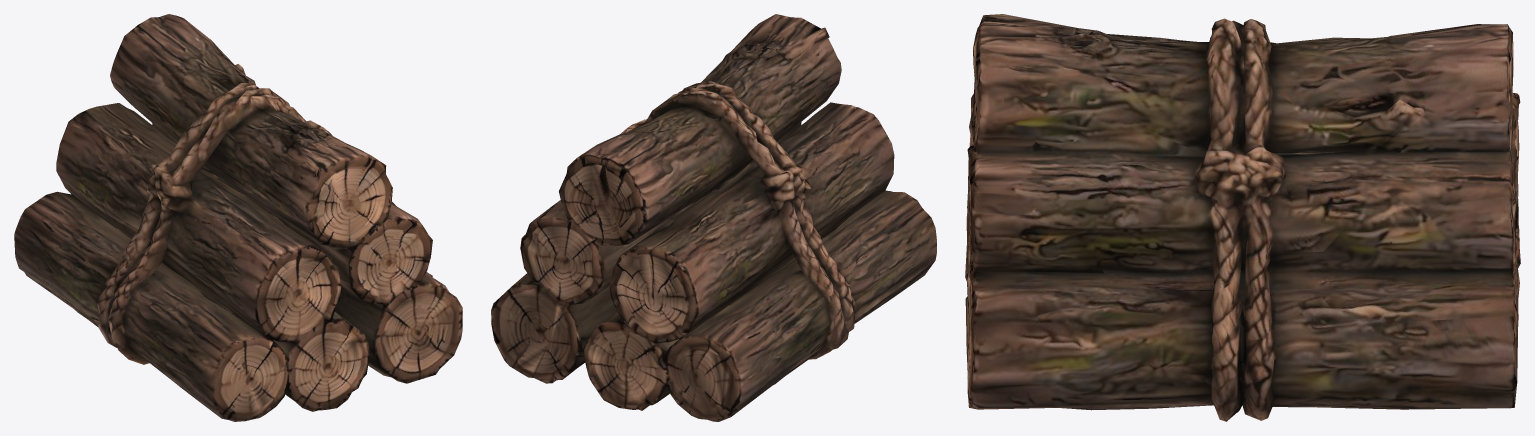
File: res_wood.glb
3 renders of one model, left to right at view 1: azimuth 30°, elevation 25°; view 2: azimuth 150°, elevation 25°; view 3: azimuth 270°, elevation 25°, orthographic. The views are drawn at different scales.
Visible parts, largest first — view 1: tripo_node_57d30ed9-ddcb-46e1-bd4d-ded3f6a2d8ea; view 2: tripo_node_57d30ed9-ddcb-46e1-bd4d-ded3f6a2d8ea; view 3: tripo_node_57d30ed9-ddcb-46e1-bd4d-ded3f6a2d8ea.
Part boxes in pixels (left/top/right/bottom): tripo_node_57d30ed9-ddcb-46e1-bd4d-ded3f6a2d8ea: left=14, top=14, right=462, bottom=421; tripo_node_57d30ed9-ddcb-46e1-bd4d-ded3f6a2d8ea: left=491, top=14, right=936, bottom=421; tripo_node_57d30ed9-ddcb-46e1-bd4d-ded3f6a2d8ea: left=965, top=14, right=1520, bottom=421.
Bounding box in the file's own units: 1.06 × 0.9505 × 1.4.
Materials: 1 (1 with a texture image).
